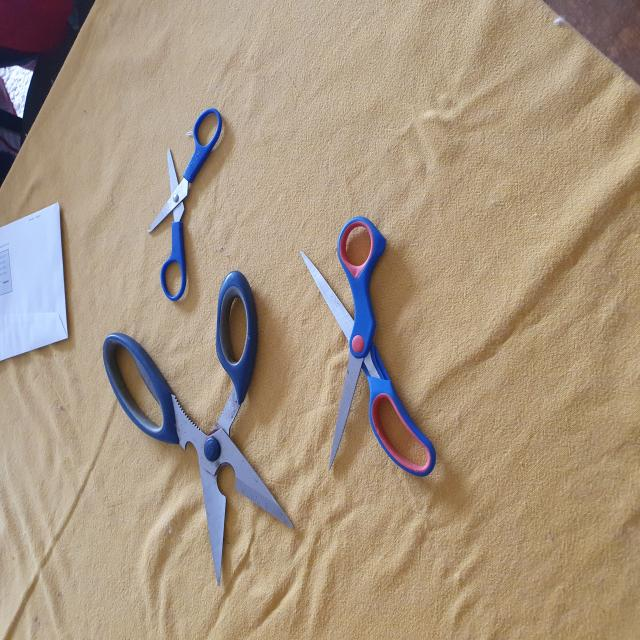scissors: (99, 267, 302, 589), (300, 219, 439, 487), (146, 106, 231, 295)
